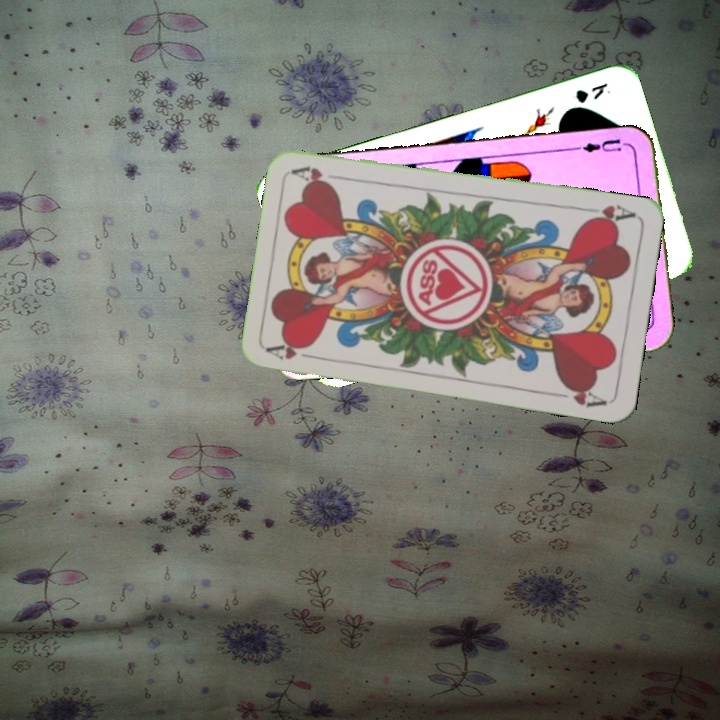EU: (574, 134, 634, 159)
GK: (571, 78, 613, 106)
HA: (579, 200, 638, 227), (264, 338, 323, 363)
